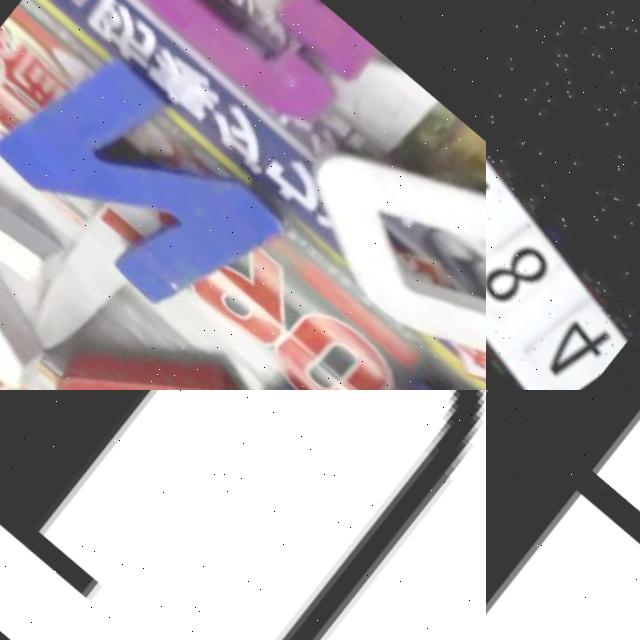4: (499, 270, 624, 390)
8: (486, 198, 566, 327)
A: (18, 289, 354, 390)
G: (96, 0, 392, 147)
N: (0, 4, 298, 340)
Q: (279, 91, 486, 390)
R: (486, 390, 640, 640)
T: (246, 309, 486, 390)
U: (0, 390, 486, 640)
Z: (0, 117, 109, 390)
